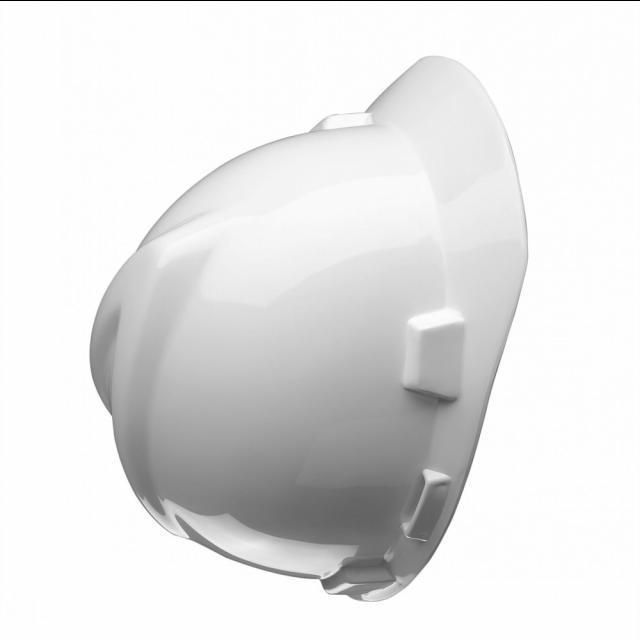safety_helmet: (90, 53, 531, 603)
